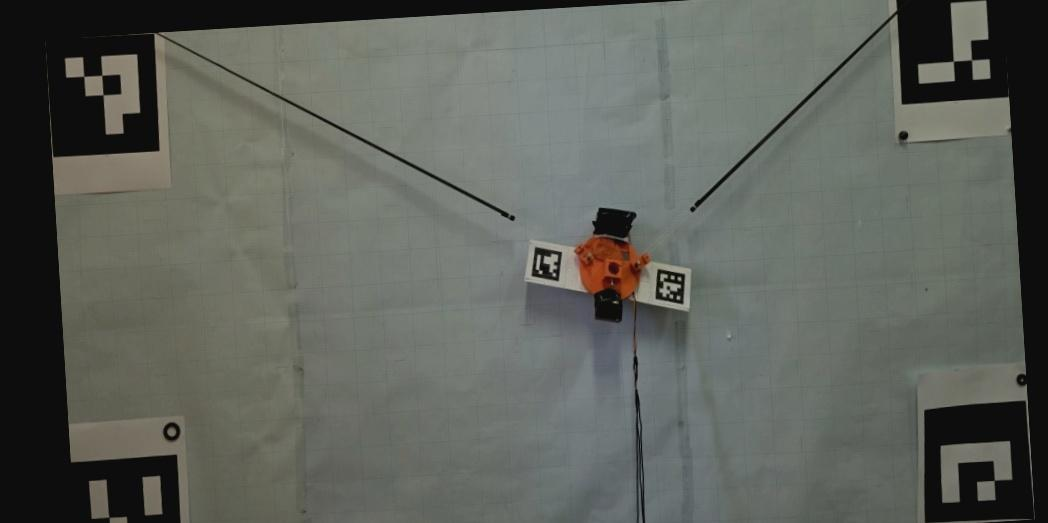robot: (573, 208, 653, 325)
